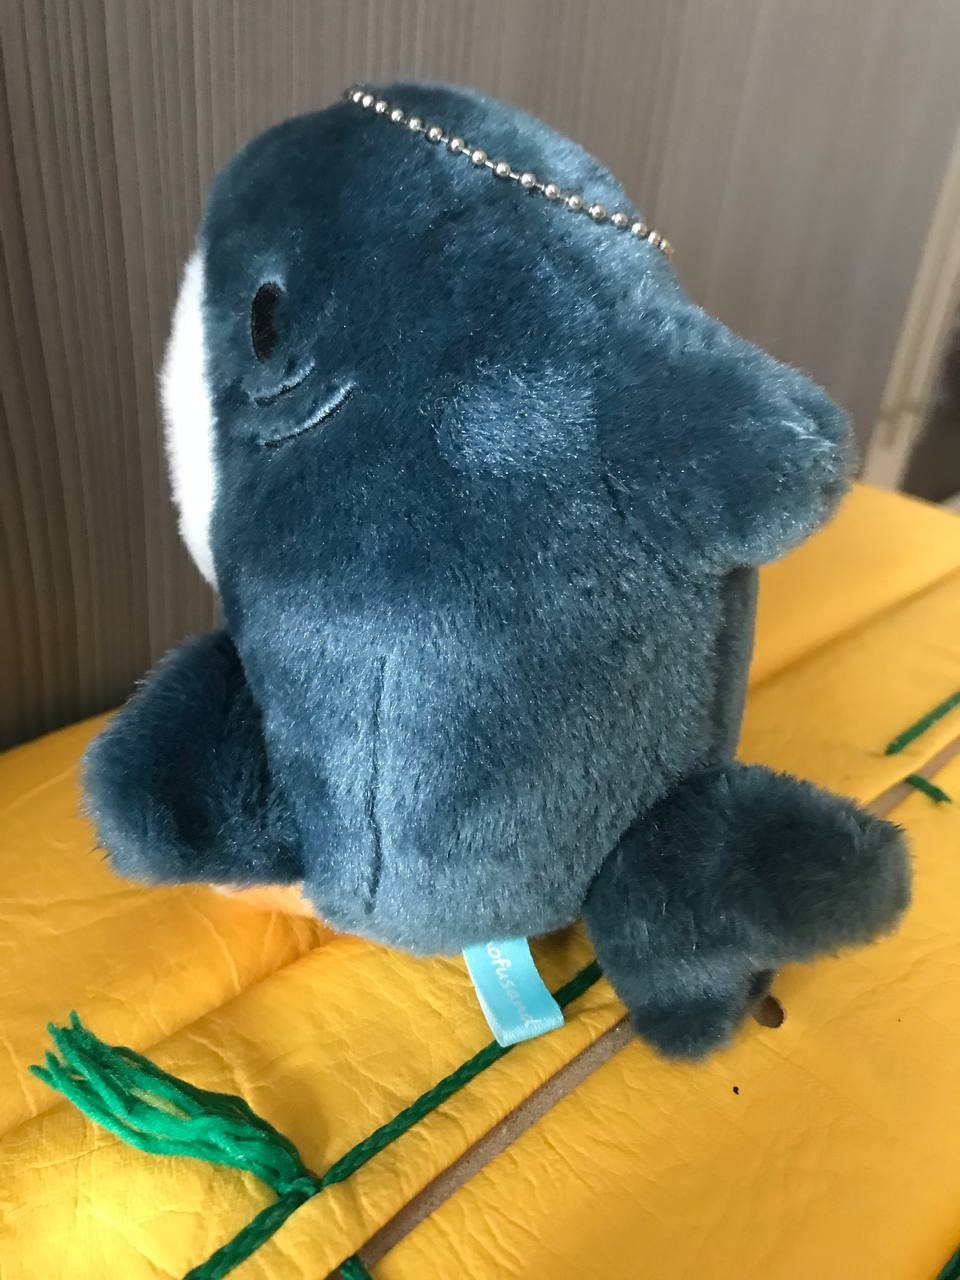cat_shark: (77, 81, 908, 1066)
